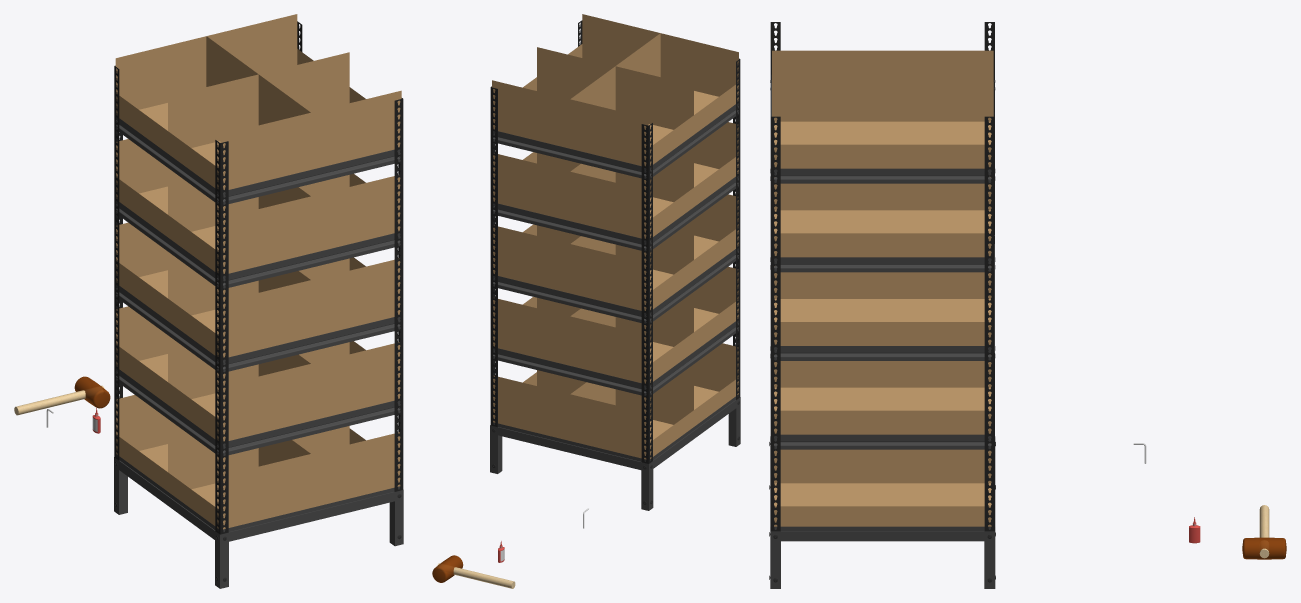
The model's file is HuoJia.fbx.
The picture shows the model from 3 angles, left to right: view 1: azimuth 30°, elevation 25°; view 2: azimuth 150°, elevation 25°; view 3: azimuth 270°, elevation 25°; orthographic projection. The views are drawn at different scales.
Parts seen in each view (by area): view 1: ZhiXiang23 (×4), ZhiXiang19 (×4), ZhiXiang22 (×4), pCube156 (×4), ZhiXiang25, ZhiXiang26, pCube154 (×4), HuoJia12, ZhiXiang24, HuoJia11, ZhiXiang21, HuoJia9 (+7 smaller); view 2: ZhiXiang22 (×4), ZhiXiang21 (×4), ZhiXiang23 (×4), pCube155 (×4), ZhiXiang24, ZhiXiang27, pCube154 (×4), HuoJia9, ZhiXiang25, ZhiXiang19, HuoJia10, HuoJia12 (+7 smaller); view 3: ZhiXiang21 (×4), ZhiXiang19 (×4), pCube157 (×4), ZhiXiang27, ZhiXiang26, HuoJia11, HuoJia10, pCube13, ChuiZi1, ZhiXiang22, ZhiXiang23, HuoJia3 (+1 smaller).
Boxes of the visible parts, x1,y1,x2,y2 form: ZhiXiang23 (×4): [168, 74, 310, 441]; ZhiXiang19 (×4): [259, 52, 401, 420]; ZhiXiang22 (×4): [115, 36, 258, 404]; pCube156 (×4): [223, 149, 400, 455]; ZhiXiang25: [168, 433, 310, 529]; ZhiXiang26: [292, 426, 400, 507]; pCube154 (×4): [115, 117, 218, 455]; HuoJia12: [215, 140, 228, 534]; ZhiXiang24: [116, 395, 186, 491]; HuoJia11: [394, 98, 403, 491]; ZhiXiang21: [207, 14, 313, 74]; HuoJia9: [114, 65, 122, 460]; ZhiXiang22 (×4): [570, 66, 693, 383]; ZhiXiang21 (×4): [492, 47, 615, 365]; ZhiXiang23 (×4): [616, 33, 738, 351]; pCube155 (×4): [493, 131, 646, 395]; ZhiXiang24: [570, 376, 693, 459]; ZhiXiang27: [493, 370, 586, 440]; pCube154 (×4): [650, 103, 738, 395]; HuoJia9: [641, 123, 652, 463]; ZhiXiang25: [678, 343, 738, 426]; ZhiXiang19: [568, 14, 660, 65]; HuoJia10: [490, 86, 497, 427]; HuoJia12: [733, 58, 740, 399]; ZhiXiang21 (×4): [882, 61, 993, 434]; ZhiXiang19 (×4): [772, 61, 882, 434]; pCube157 (×4): [774, 169, 991, 449]; ZhiXiang27: [882, 449, 991, 526]; ZhiXiang26: [774, 449, 882, 526]; HuoJia11: [770, 112, 780, 531]; HuoJia10: [984, 112, 994, 531]; pCube13: [781, 531, 984, 541]; ChuiZi1: [1242, 505, 1286, 559]; ZhiXiang22: [882, 50, 993, 60]; ZhiXiang23: [772, 50, 882, 60]; HuoJia3: [774, 526, 990, 530].
Size of the model in its own units: 102 by 243 by 232.
10 materials, 2 textured.
